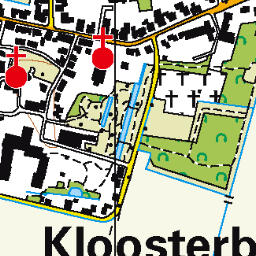church: (1, 43, 32, 91), (87, 25, 117, 71)
